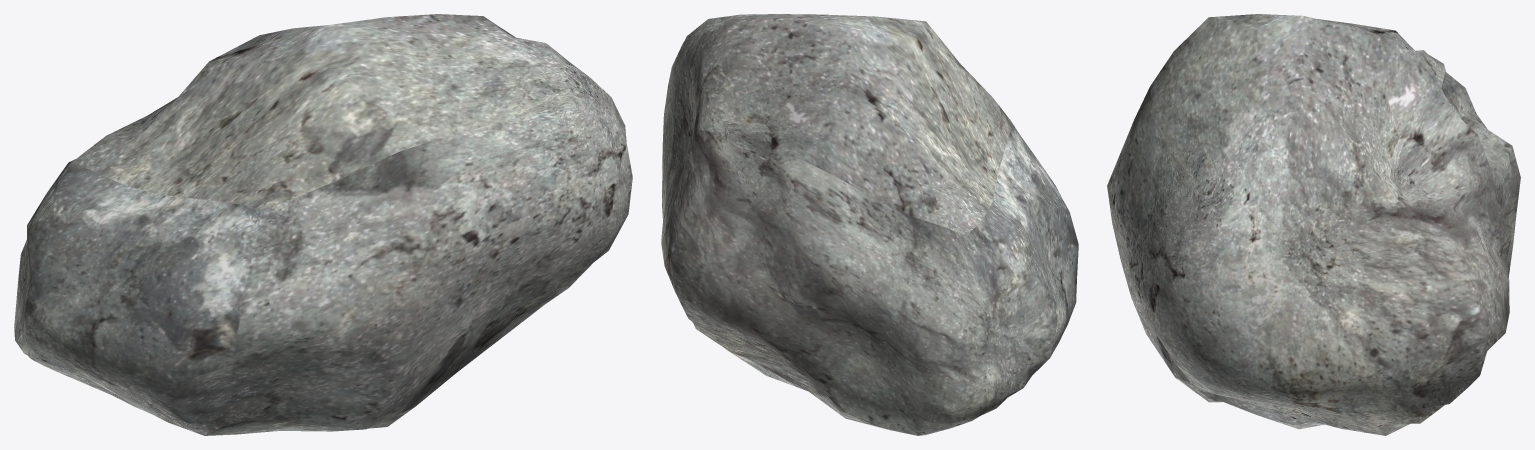
The model's file is Rock1.fbx.
3 renders of one model, left to right at view 1: azimuth 30°, elevation 25°; view 2: azimuth 150°, elevation 25°; view 3: azimuth 270°, elevation 25°, orthographic. The views are drawn at different scales.
Visible parts, largest first — view 1: Cube.010; view 2: Cube.010; view 3: Cube.010.
Boxes of the visible parts, x1,y1,x2,y2 form: Cube.010: [14, 14, 632, 435]; Cube.010: [661, 14, 1078, 435]; Cube.010: [1107, 14, 1520, 435].
Bounding box in the file's own units: 584 × 409 × 389.
